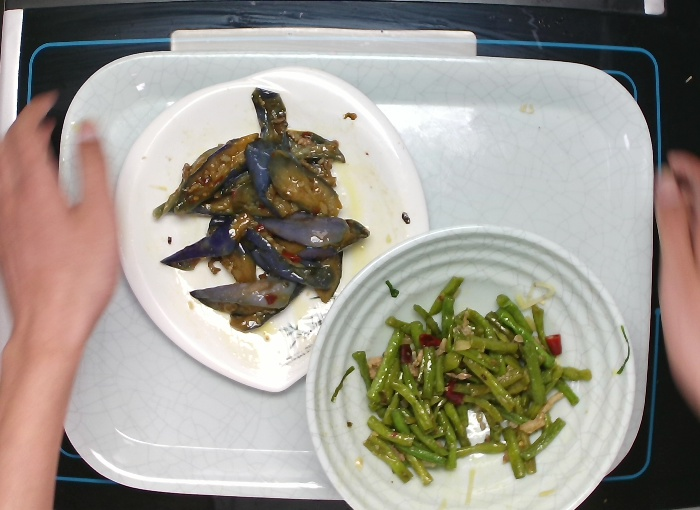JYsf-Da_Tang_Wan: (302, 220, 640, 509)
JYsf-Mian_Pan: (110, 62, 435, 398)
